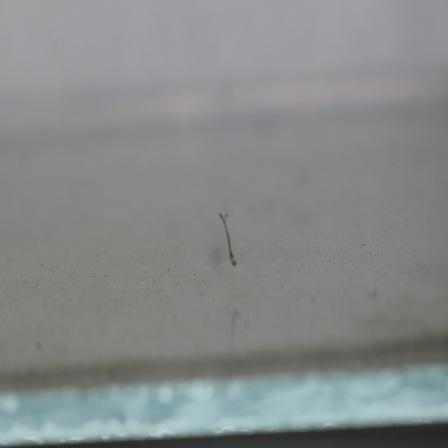Jentik-Nyamuk: (215, 209, 241, 273)
